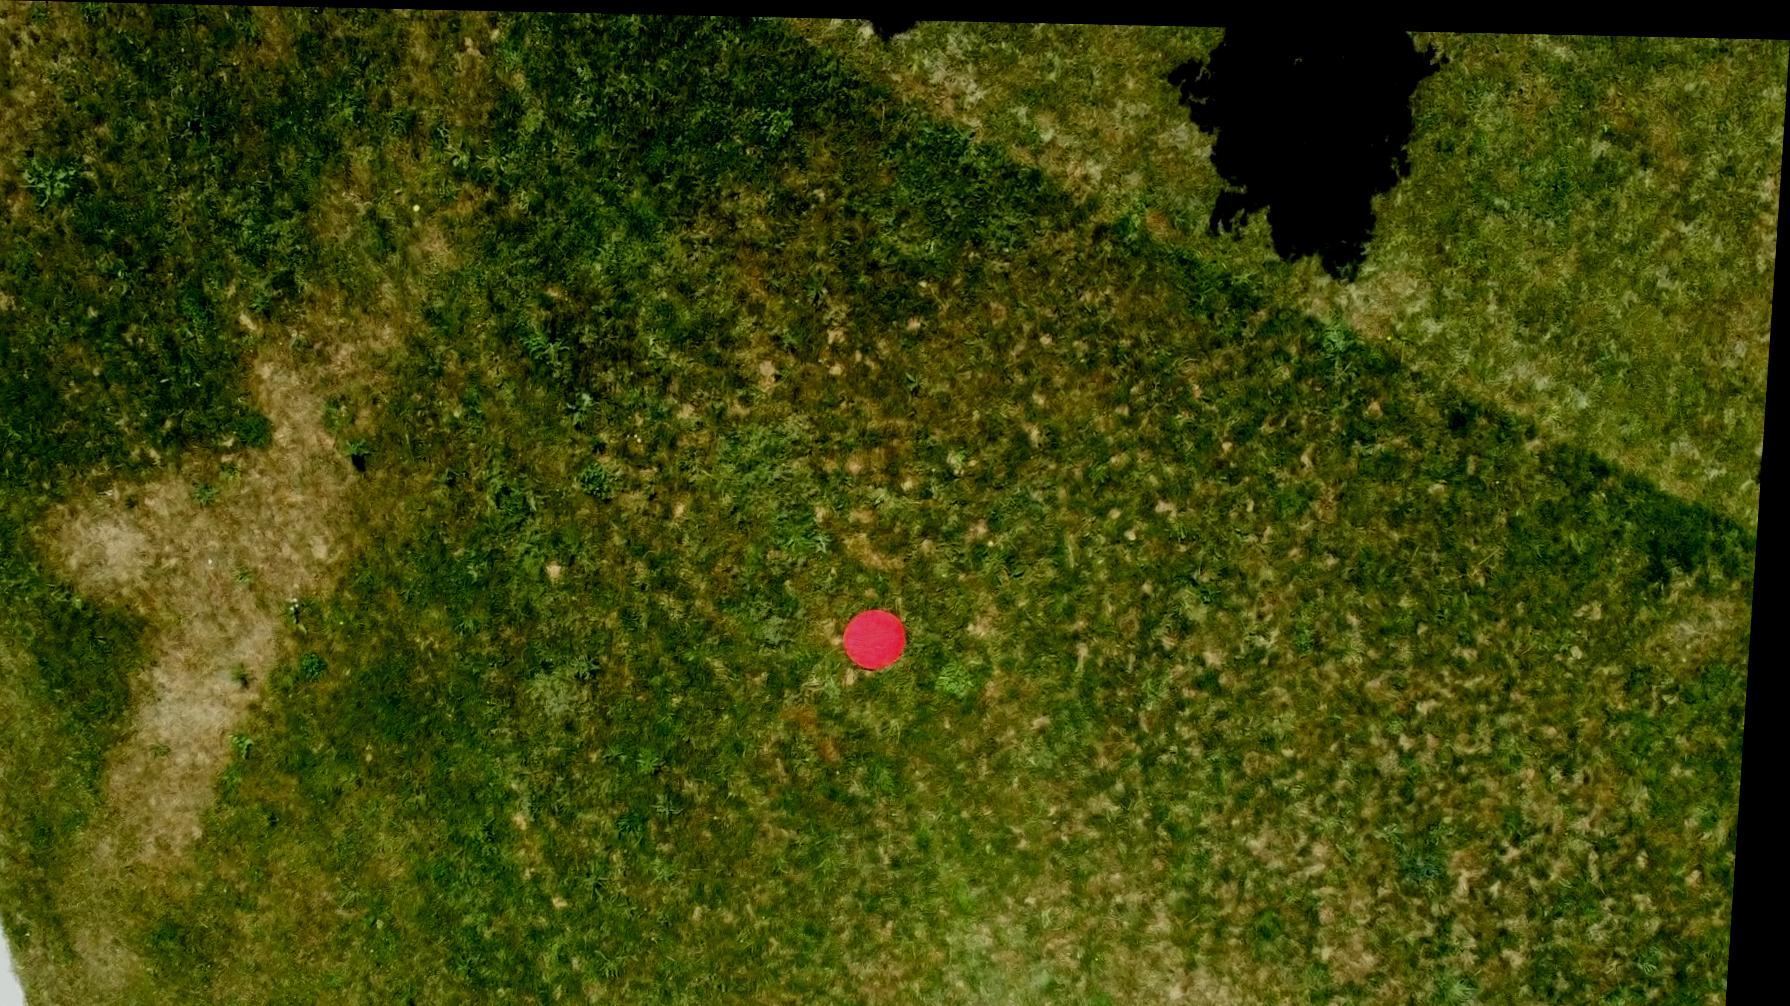Red: (847, 600, 918, 673)
